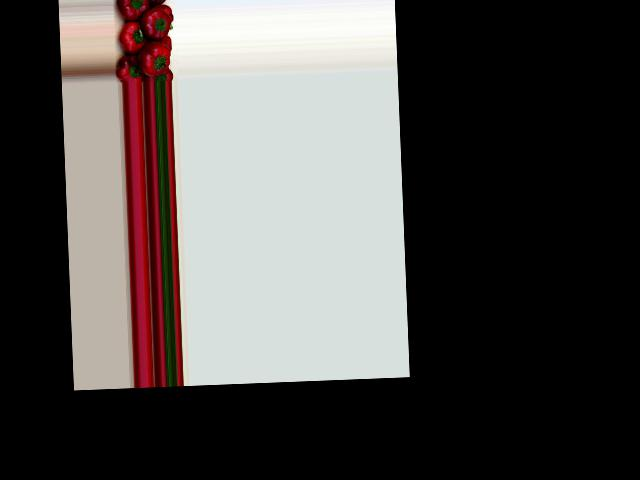bell_pepper: (159, 35, 173, 49)
